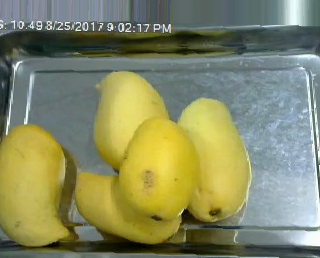Mango: (173, 97, 252, 220), (0, 120, 72, 246), (118, 116, 200, 221), (93, 71, 169, 173), (75, 172, 182, 242)
